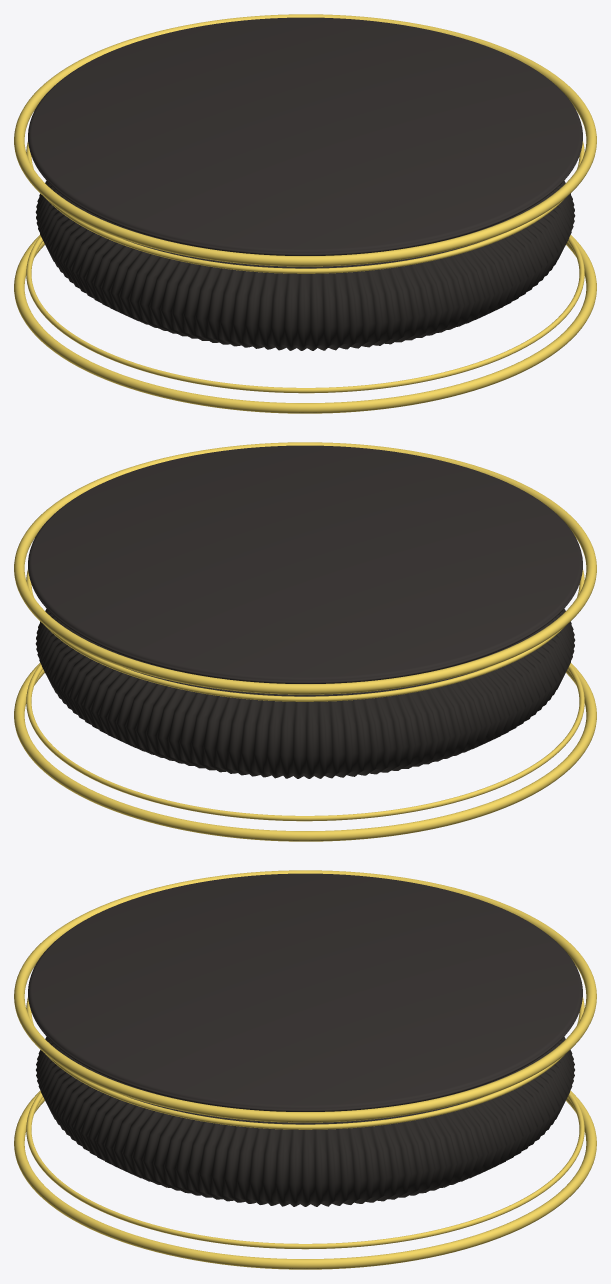
File: podium.glb
3 renders of one model, top to bottom at view 1: azimuth 30°, elevation 25°; view 2: azimuth 150°, elevation 25°; view 3: azimuth 270°, elevation 25°, orthographic.
Visible parts, largest first — view 1: TopPlate, Podium, RimTop, RimBottom, RimBottom2, RimTop2; view 2: TopPlate, Podium, RimTop, RimBottom, RimBottom2, RimTop2; view 3: TopPlate, Podium, RimTop, RimBottom, RimBottom2, RimTop2.
Boxes of the visible parts, x1,y1,x2,y2 form: TopPlate: [28, 17, 582, 255]; Podium: [35, 180, 575, 350]; RimTop: [14, 14, 596, 266]; RimBottom: [14, 235, 596, 413]; RimBottom2: [26, 235, 584, 393]; RimTop2: [26, 141, 584, 273]; TopPlate: [28, 445, 582, 683]; Podium: [35, 608, 575, 778]; RimTop: [14, 442, 596, 694]; RimBottom: [14, 663, 596, 841]; RimBottom2: [26, 663, 584, 821]; RimTop2: [26, 569, 584, 701]; TopPlate: [28, 873, 582, 1111]; Podium: [36, 1036, 574, 1206]; RimTop: [14, 870, 596, 1122]; RimBottom: [14, 1090, 596, 1269]; RimBottom2: [26, 1091, 584, 1249]; RimTop2: [26, 997, 584, 1129].
Bounding box in the file's own units: 3.06 × 0.918 × 3.06.
